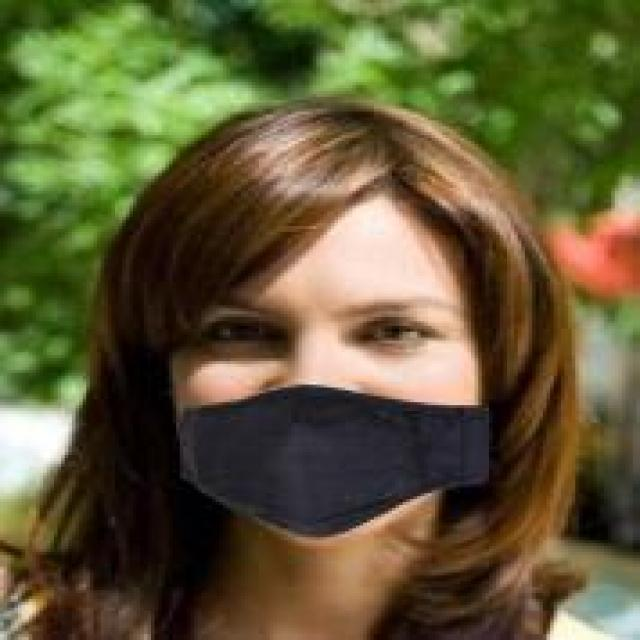mask: (111, 77, 572, 526)
